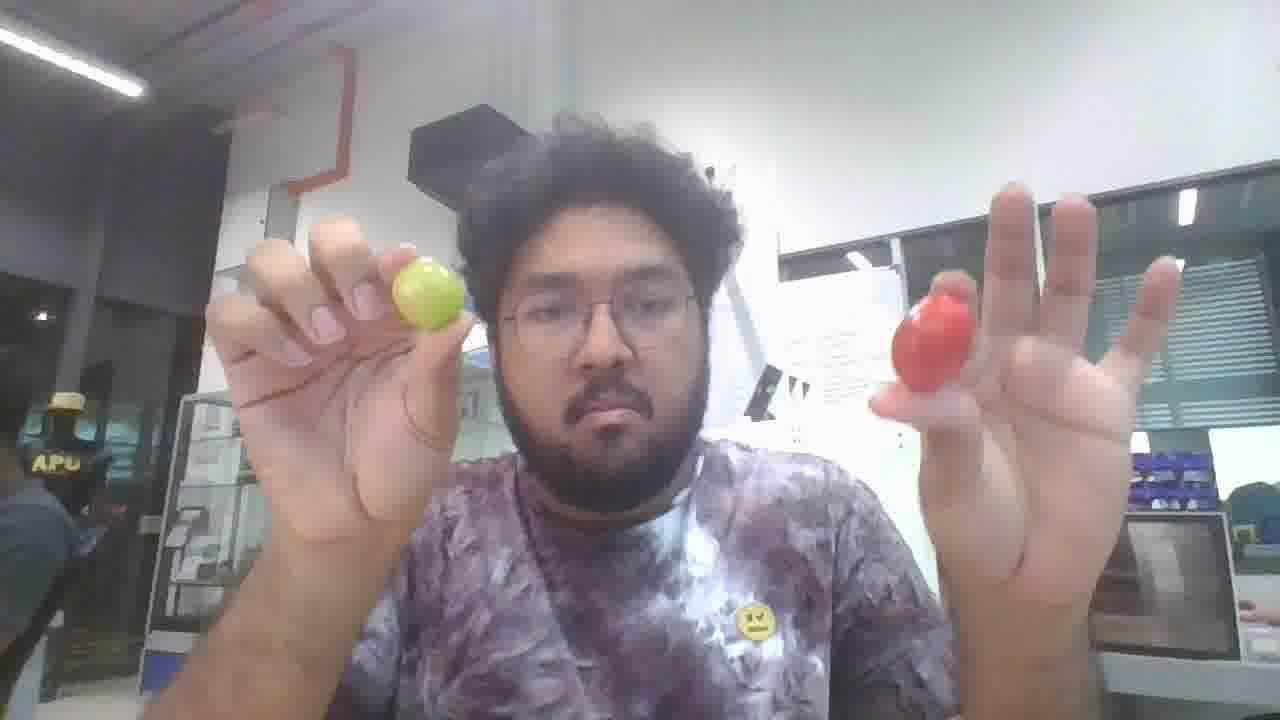green_cherry_tomato: (392, 258, 465, 330)
red_cherry_tomato: (890, 290, 976, 393)
